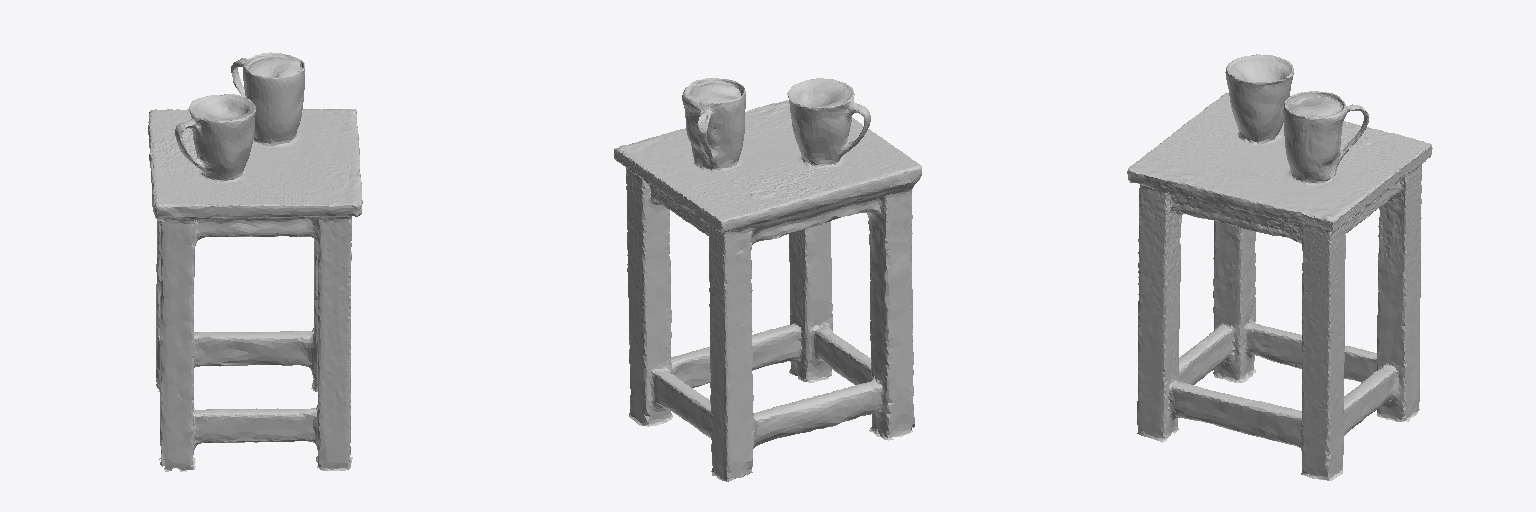
Rendered from coffeetable.obj.
3 renders of one model, left to right at view 1: azimuth 30°, elevation 25°; view 2: azimuth 150°, elevation 25°; view 3: azimuth 270°, elevation 25°, orthographic.
Parts seen in each view (by area): view 1: poly; view 2: poly; view 3: poly.
Part boxes in pixels (x1,y1,x2,y2): poly: (148, 52, 362, 471); poly: (614, 78, 921, 481); poly: (1127, 54, 1432, 480).
Size of the model in its own units: 0.485 by 0.6198 by 0.5031.